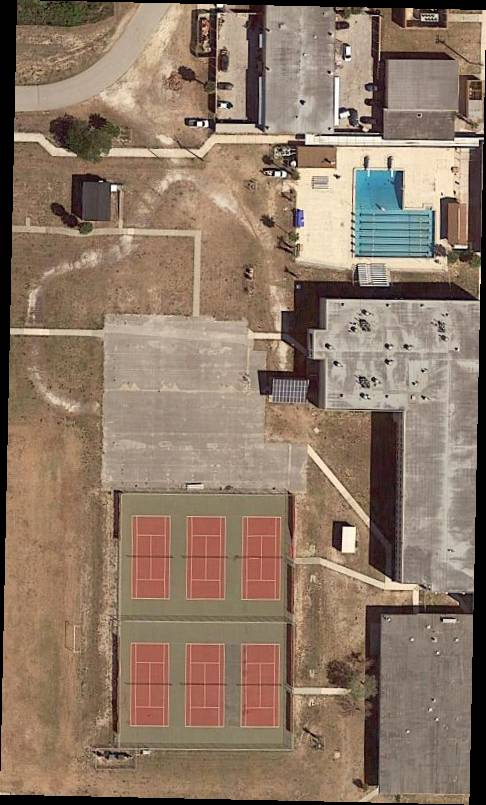swimming pool: (354, 170, 437, 260)
tennis court: (186, 516, 225, 601), (186, 644, 225, 728), (131, 644, 170, 727), (132, 516, 170, 600), (242, 644, 279, 728), (243, 517, 280, 601)
